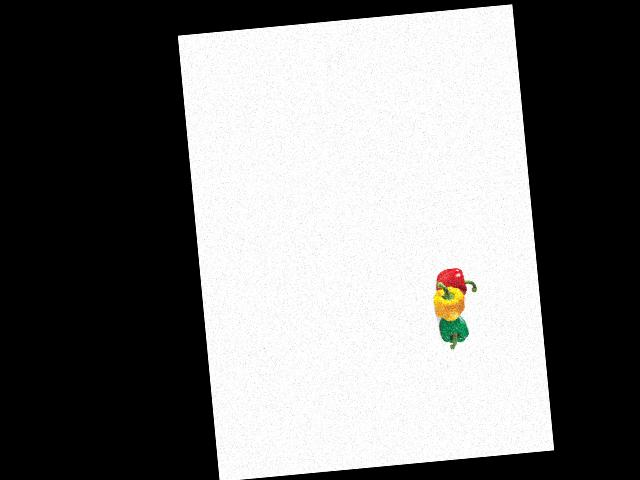bell_pepper: (435, 311, 472, 349)
